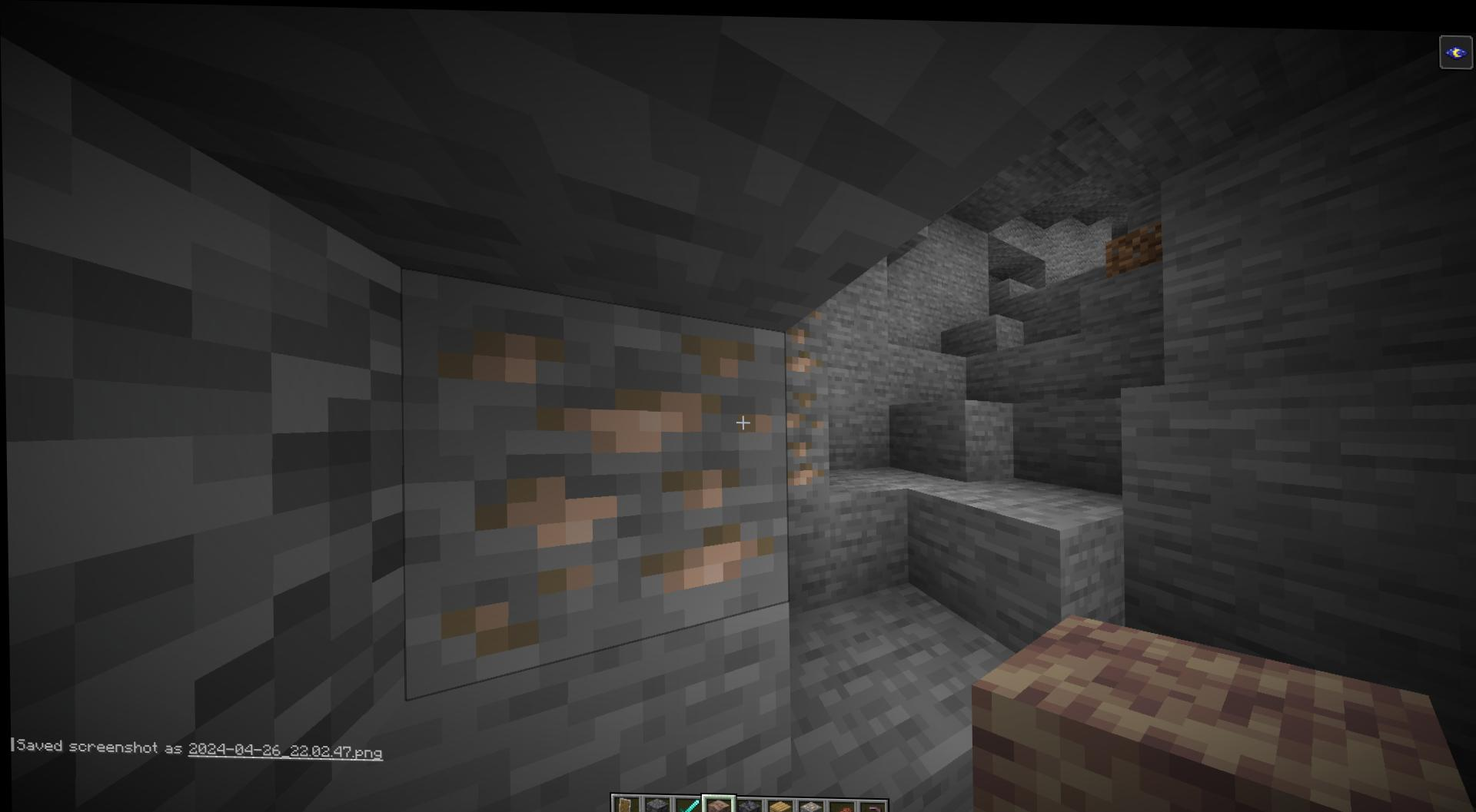iron ore: (389, 295, 783, 668), (783, 312, 829, 479)
